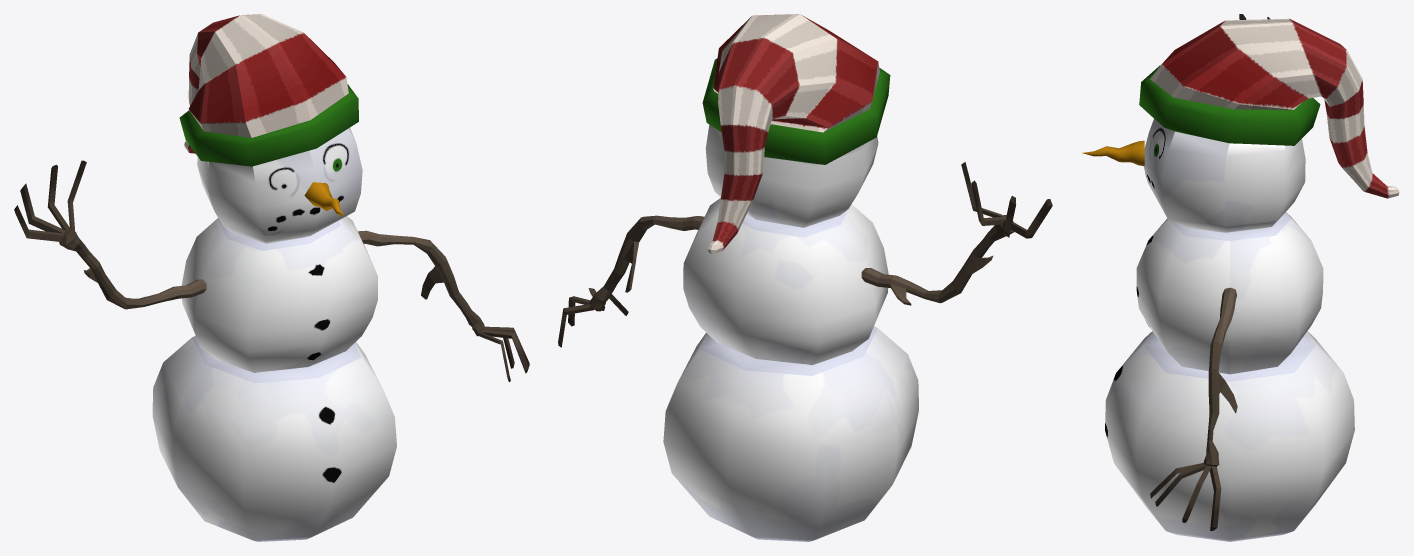
Rendered from CN_snowman_v02.fbx.
The picture shows the model from 3 angles, left to right: view 1: azimuth 30°, elevation 25°; view 2: azimuth 150°, elevation 25°; view 3: azimuth 270°, elevation 25°; orthographic projection. The views are drawn at different scales.
Parts seen in each view (by area): view 1: SnowMan_Mound_Bottom, snowman_head, Snowman_Mound_Middle, polySurface2, polySurface1; view 2: SnowMan_Mound_Bottom, snowman_head, Snowman_Mound_Middle, polySurface2, polySurface1; view 3: snowman_head, SnowMan_Mound_Bottom, Snowman_Mound_Middle, polySurface1.
Part boxes in pixels (x1,y1,x2,y2): SnowMan_Mound_Bottom: (152, 336, 396, 541); snowman_head: (179, 14, 362, 243); Snowman_Mound_Middle: (181, 216, 377, 372); polySurface2: (14, 160, 206, 309); polySurface1: (358, 230, 529, 381); SnowMan_Mound_Bottom: (663, 326, 918, 541); snowman_head: (702, 14, 890, 253); Snowman_Mound_Middle: (683, 198, 888, 365); polySurface2: (861, 162, 1052, 305); polySurface1: (558, 215, 704, 347); snowman_head: (1082, 18, 1399, 232); SnowMan_Mound_Bottom: (1105, 331, 1354, 541); Snowman_Mound_Middle: (1136, 212, 1323, 374); polySurface1: (1150, 287, 1237, 530).
Bounding box in the file's own units: 324 × 307 × 178.
